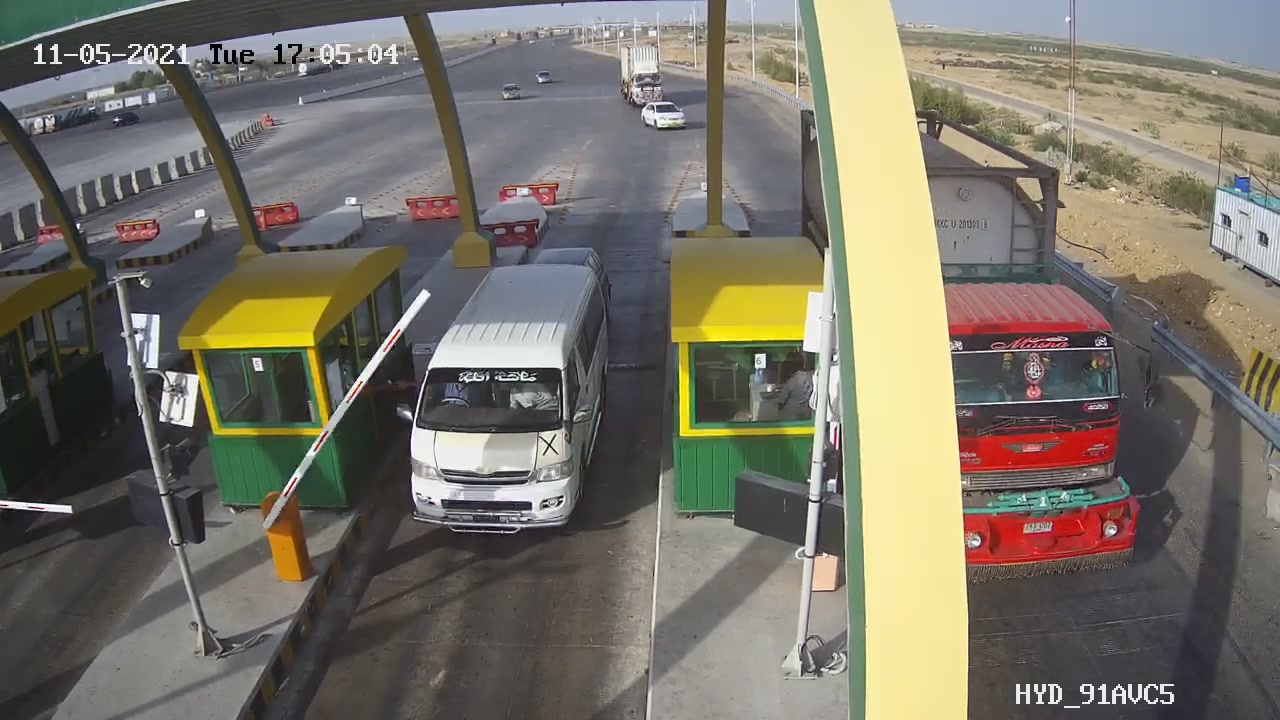F2: (379, 252, 633, 559)
